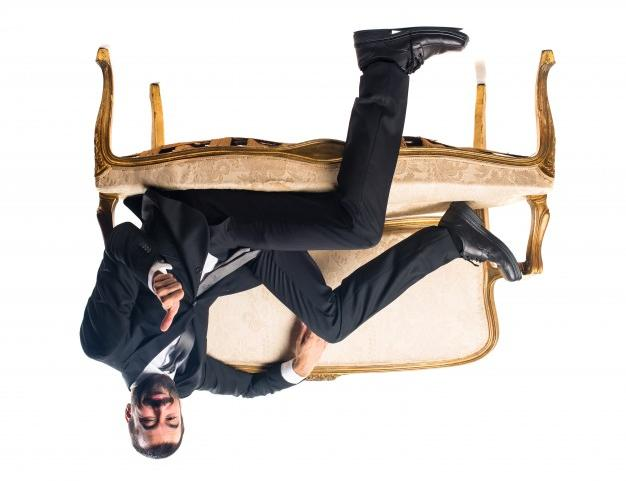thumbsdown: (154, 273, 184, 332)
